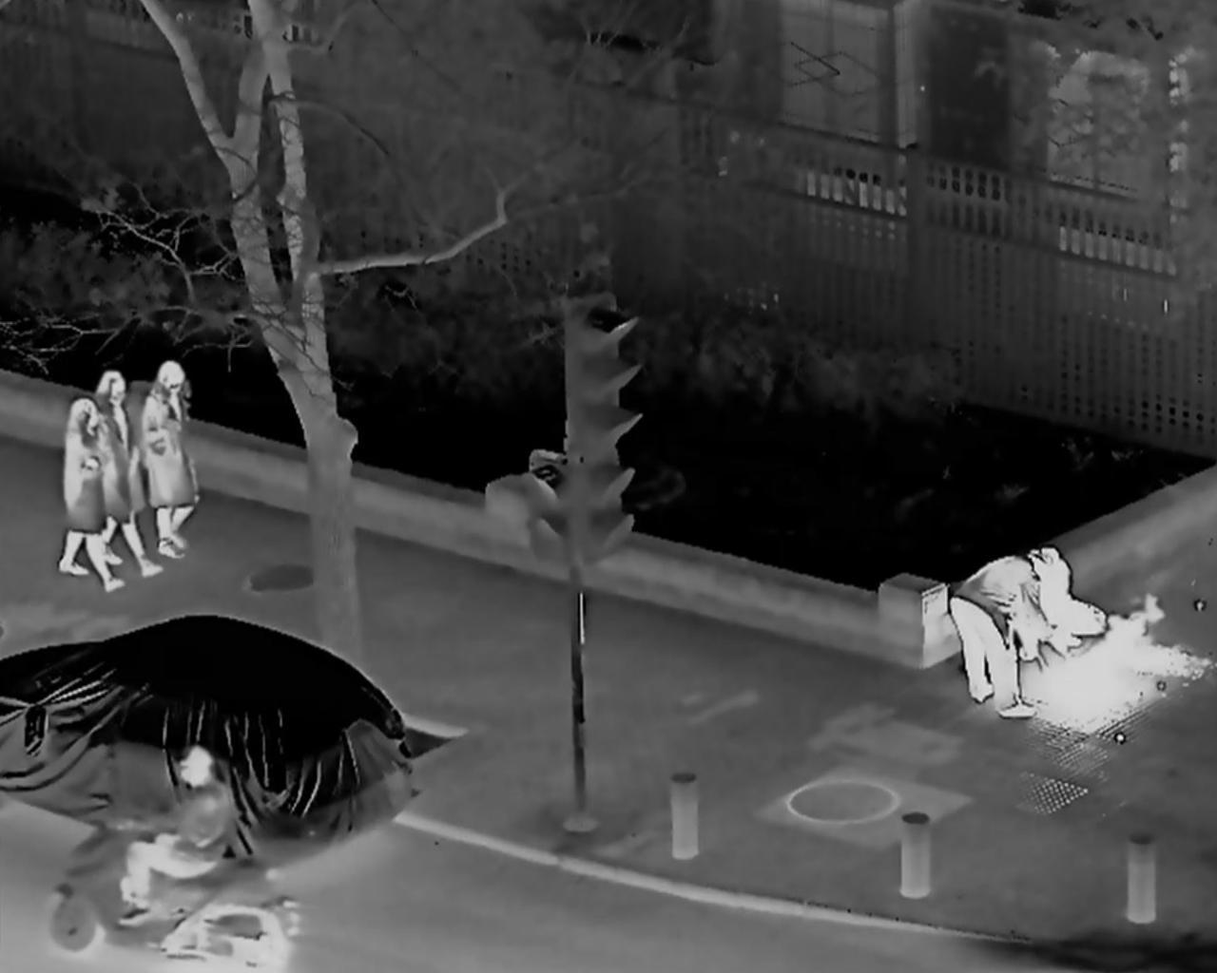person: (122, 750, 229, 927), (948, 550, 1050, 724), (89, 376, 163, 579), (51, 401, 126, 593), (1010, 544, 1109, 669), (140, 365, 200, 557)
